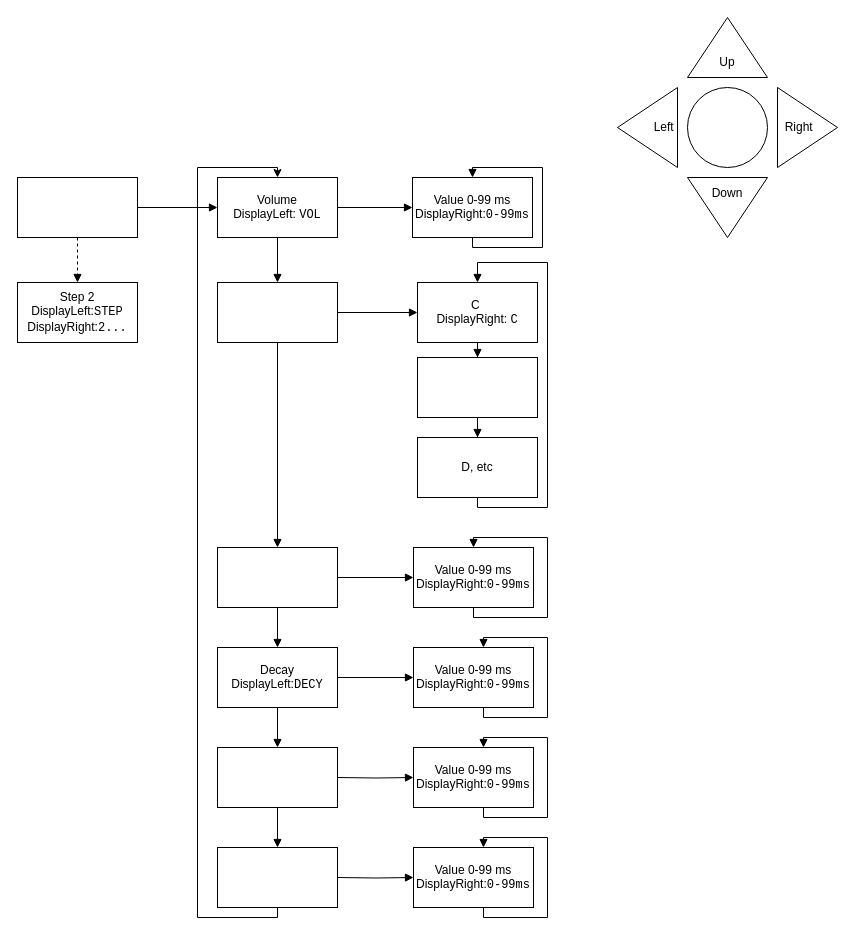
This 855x943 diagram has some shape labels left out. Each missing label, with the box of its shape:
Attack DisplayLeft: ATTK: (216, 546, 338, 608)
D flat DisplayRight: DFLT: (416, 356, 538, 418)
Note/Pitch DisplayLeft: PTCH: (216, 282, 338, 342)
Play/ Stop: (686, 86, 768, 168)
Release DisplayLeft: REL: (216, 846, 338, 908)
Step 1 DisplayLeft: STEP DisplayRight: 1: (16, 176, 138, 238)
Sustain DisplayLeft: SUS: (216, 746, 338, 808)
